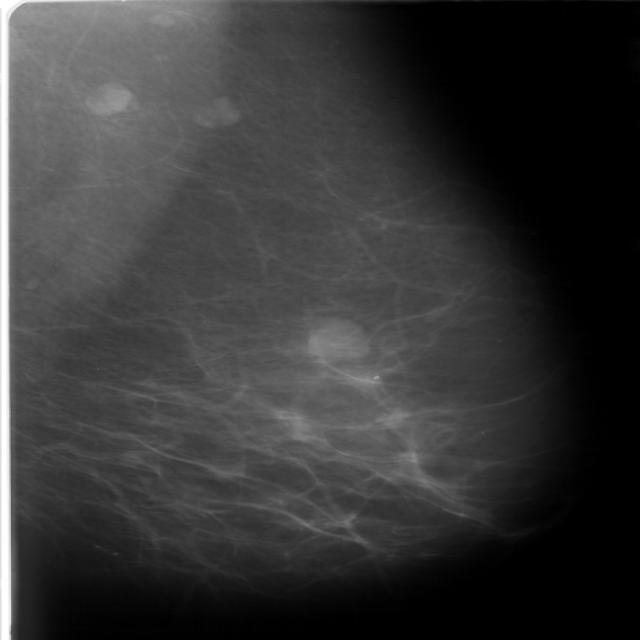tumour: (304, 314, 366, 359)
